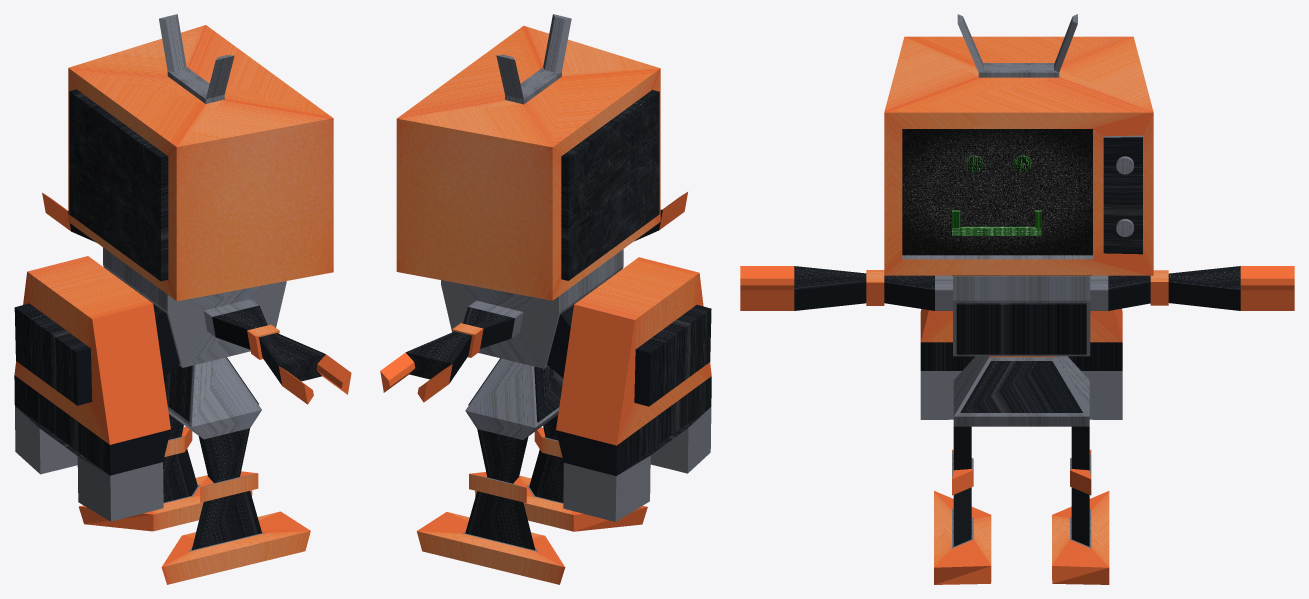
File: tv_guide_jetpack.fbx
3 renders of one model, left to right at view 1: azimuth 30°, elevation 25°; view 2: azimuth 150°, elevation 25°; view 3: azimuth 270°, elevation 25°, orthographic. The views are drawn at different scales.
Parts seen in each view (by area): view 1: TV_guide; view 2: TV_guide; view 3: TV_guide.
Boxes of the visible parts, <box> form: TV_guide: <box>14,14,351,584</box>; TV_guide: <box>380,14,711,584</box>; TV_guide: <box>740,14,1294,584</box>.
Size of the model in its own units: 15.62 by 32.58 by 30.84.
5 materials, 5 textured.
